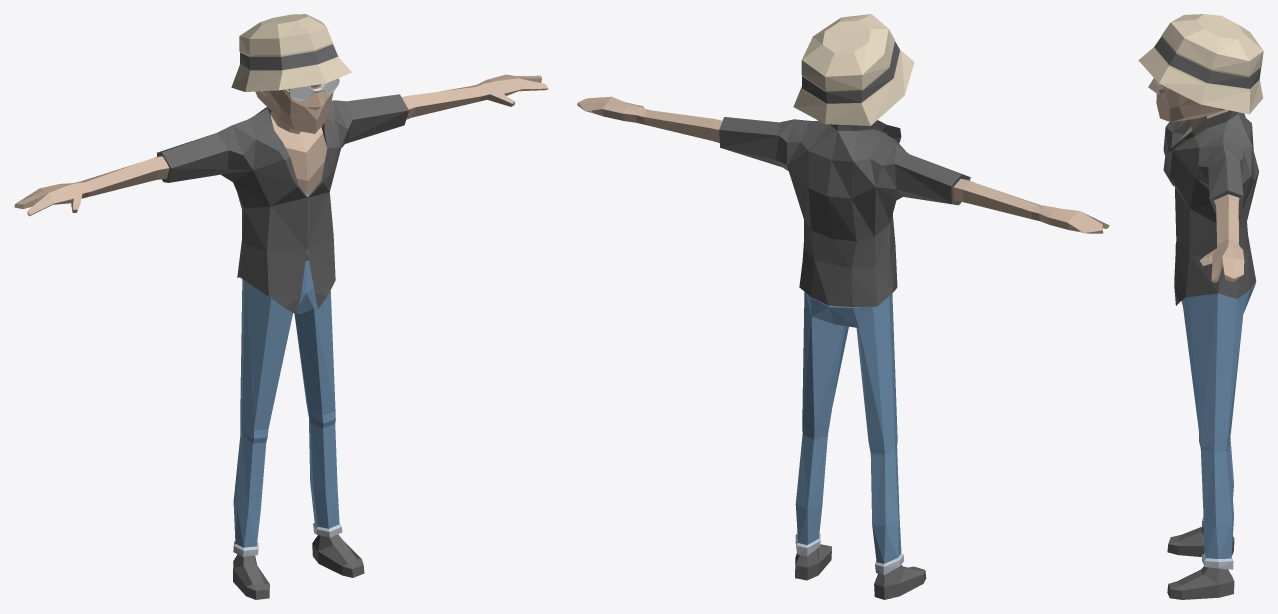
Rendered from baseMale2.fbx.
3 views of the same model, side by side, from view 1: azimuth 30°, elevation 25°; view 2: azimuth 150°, elevation 25°; view 3: azimuth 270°, elevation 25° (orthographic).
Parts seen in each view (by area): view 1: shirt, pants, Cylinder001, Hat, Shoes; view 2: shirt, pants, Hat, Cylinder001, Shoes; view 3: shirt, pants, Hat, Cylinder001, Shoes.
Part boxes in pixels (x1,y1,x2,y2): shirt: (157,94,408,314); pants: (233,251,342,556); Cylinder001: (14,74,548,216); Hat: (231,14,351,91); Shoes: (233,534,364,599); shirt: (719,117,970,307); pants: (795,292,903,575); Hat: (793,14,914,125); Cylinder001: (577,96,1109,233); Shoes: (795,544,926,599); shirt: (1163,110,1258,305); pants: (1175,244,1255,569); Hat: (1138,14,1263,114); Cylinder001: (1148,78,1244,569); Shoes: (1167,526,1234,599).
Bounding box in the file's own units: 179 × 181 × 37.07.
